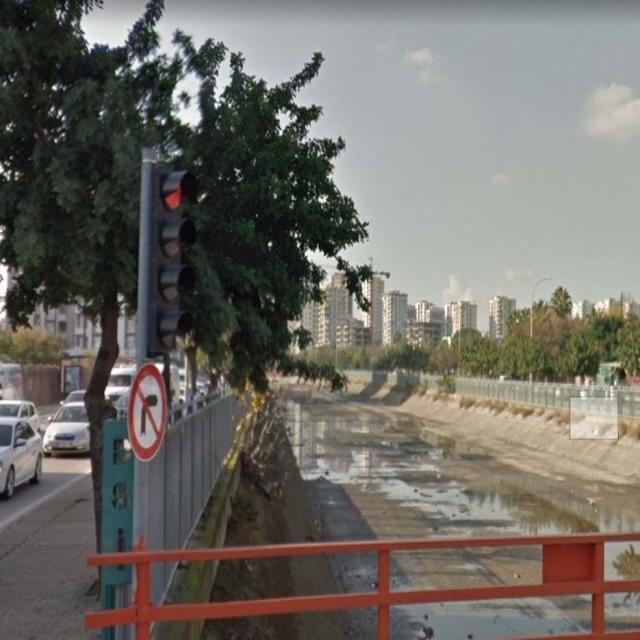kirmizi: (152, 166, 182, 310)
sagadonulmez: (129, 361, 167, 463)
